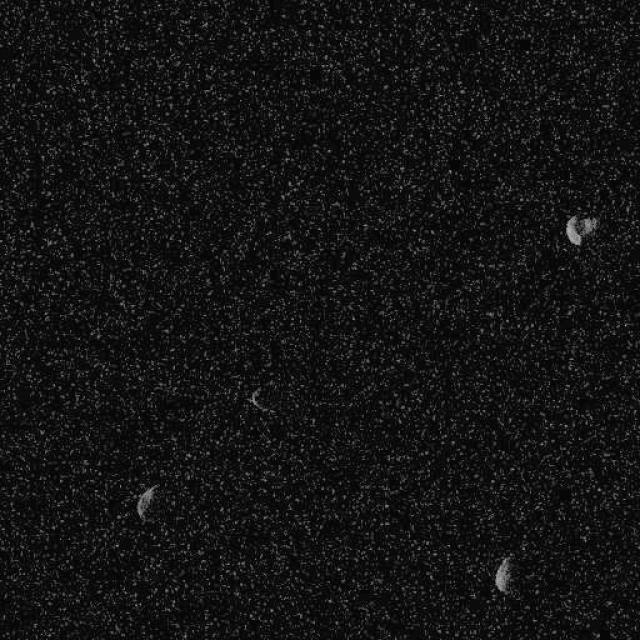D2: (564, 214, 598, 246), (135, 482, 159, 524), (246, 387, 275, 415), (493, 555, 512, 594)
